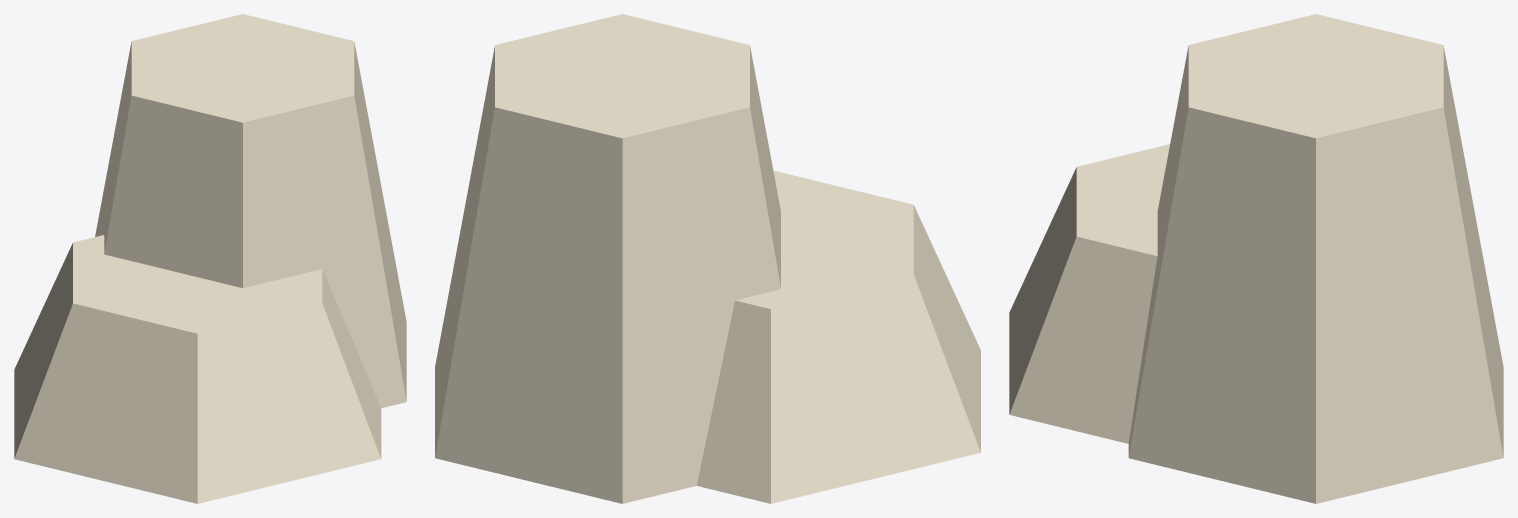
Rendered from resourceStone.glb.
The picture shows the model from 3 angles, left to right: view 1: azimuth 30°, elevation 25°; view 2: azimuth 150°, elevation 25°; view 3: azimuth 270°, elevation 25°; orthographic projection. The views are drawn at different scales.
Visible parts, largest first — view 1: resourceStone; view 2: resourceStone; view 3: resourceStone.
Part boxes in pixels (<box>): resourceStone: <box>14,14,406,503</box>; resourceStone: <box>435,14,980,503</box>; resourceStone: <box>1009,14,1503,503</box>.
Bounding box in the file's own units: 0.6614 × 0.4272 × 0.5689.
